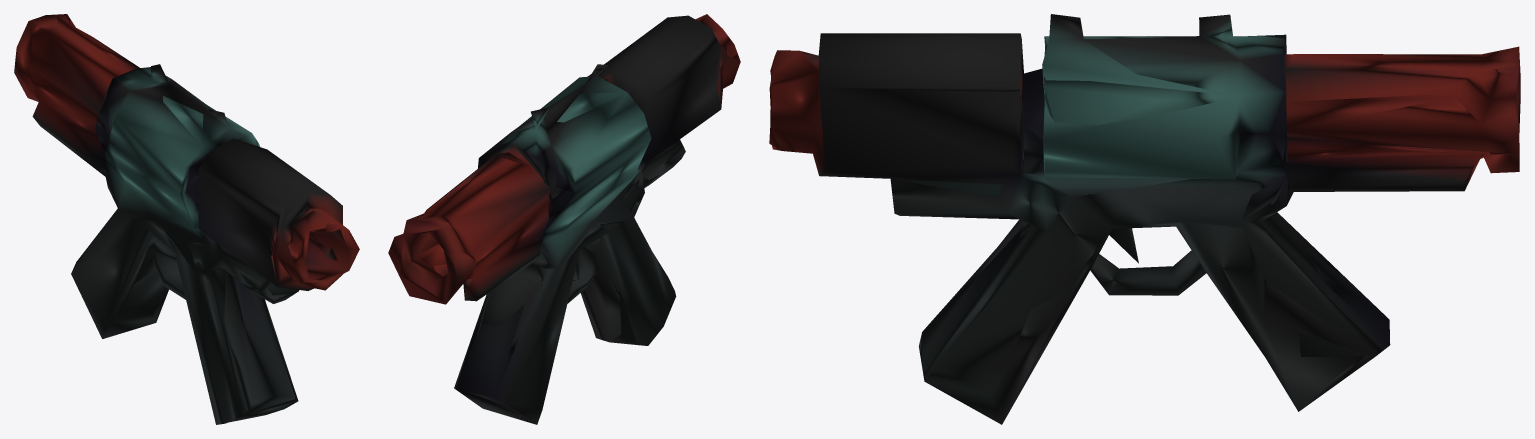
Rendered from gen3d-ray-gun-lod1.glb.
The picture shows the model from 3 angles, left to right: view 1: azimuth 30°, elevation 25°; view 2: azimuth 150°, elevation 25°; view 3: azimuth 270°, elevation 25°; orthographic projection. The views are drawn at different scales.
Parts seen in each view (by area): view 1: part_0; view 2: part_0; view 3: part_0.
Part boxes in pixels (x1,y1,x2,y2): part_0: [14, 14, 359, 424]; part_0: [388, 14, 740, 424]; part_0: [769, 14, 1520, 424].
Size of the model in its own units: 0.3241 by 0.9909 by 1.72.
